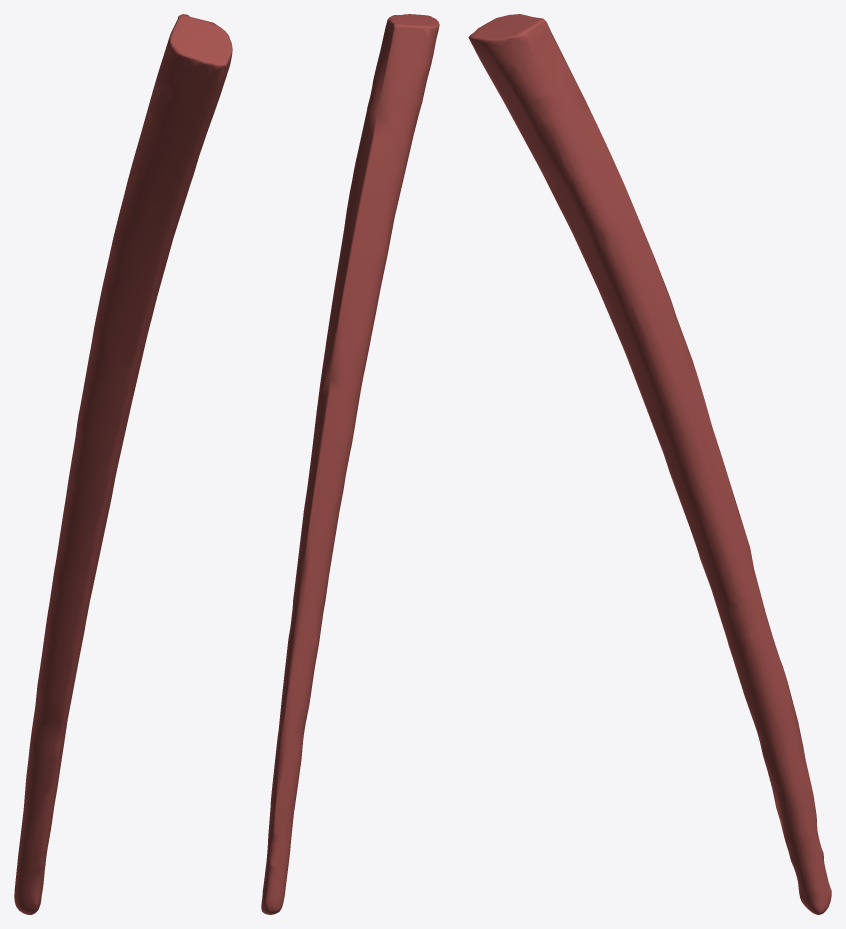
The model's file is FMA78497.glb.
3 views of the same model, side by side, from view 1: azimuth 30°, elevation 25°; view 2: azimuth 150°, elevation 25°; view 3: azimuth 270°, elevation 25° (orthographic). The views are drawn at different scales.
Parts seen in each view (by area): view 1: FMA78497; view 2: FMA78497; view 3: FMA78497.
Boxes of the visible parts, box(x1,y1,x2,y2) form: FMA78497: box(14, 14, 232, 914); FMA78497: box(261, 14, 439, 914); FMA78497: box(468, 14, 831, 914).
Bounding box in the file's own units: 0.00214 × 0.0336 × 0.0124.
